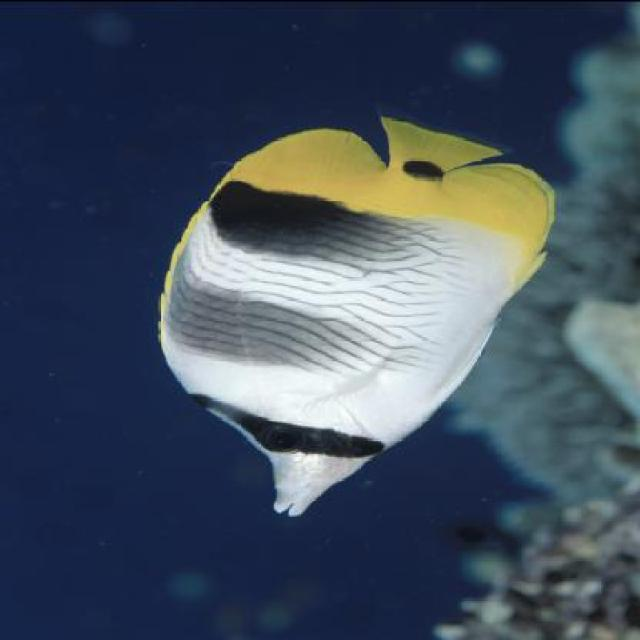ButterflyFish: (158, 113, 556, 514)
